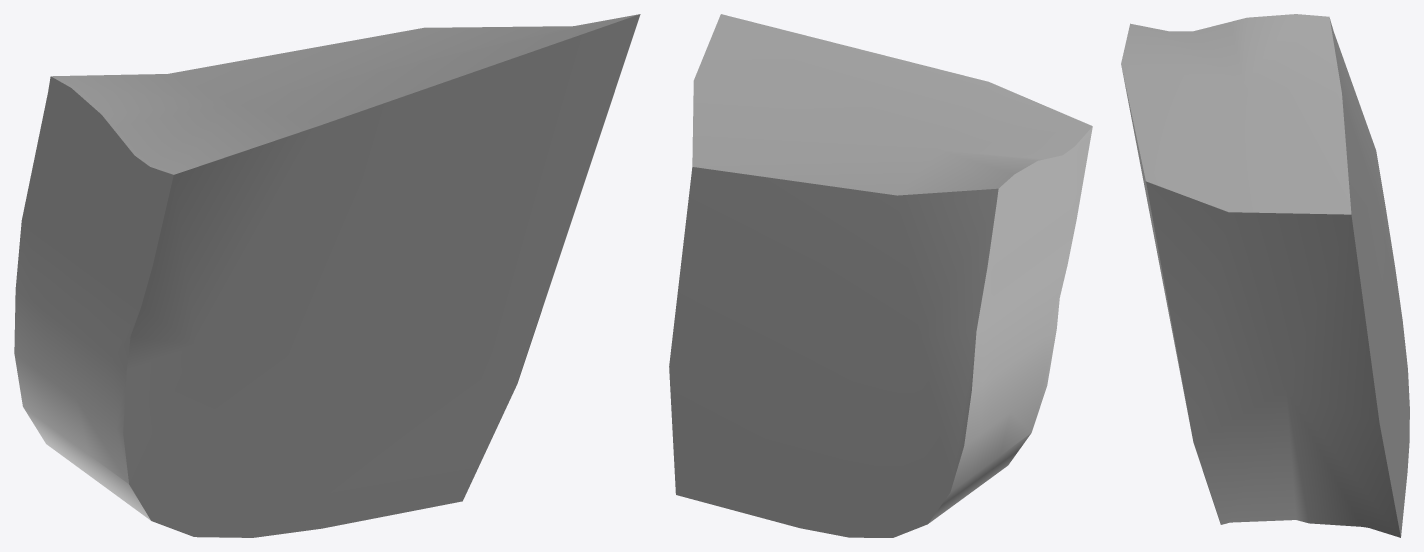
File: Happy_Box12.fbx
3 renders of one model, left to right at view 1: azimuth 30°, elevation 25°; view 2: azimuth 150°, elevation 25°; view 3: azimuth 270°, elevation 25°, orthographic. The views are drawn at different scales.
Parts seen in each view (by area): view 1: Happy_Box12; view 2: Happy_Box12; view 3: Happy_Box12.
Boxes of the visible parts, bbox=[...] form: Happy_Box12: bbox=[14, 14, 640, 537]; Happy_Box12: bbox=[669, 14, 1092, 537]; Happy_Box12: bbox=[1121, 14, 1409, 537].
Size of the model in its own units: 28.58 by 28.04 by 18.56.
2 materials, 1 textured.
